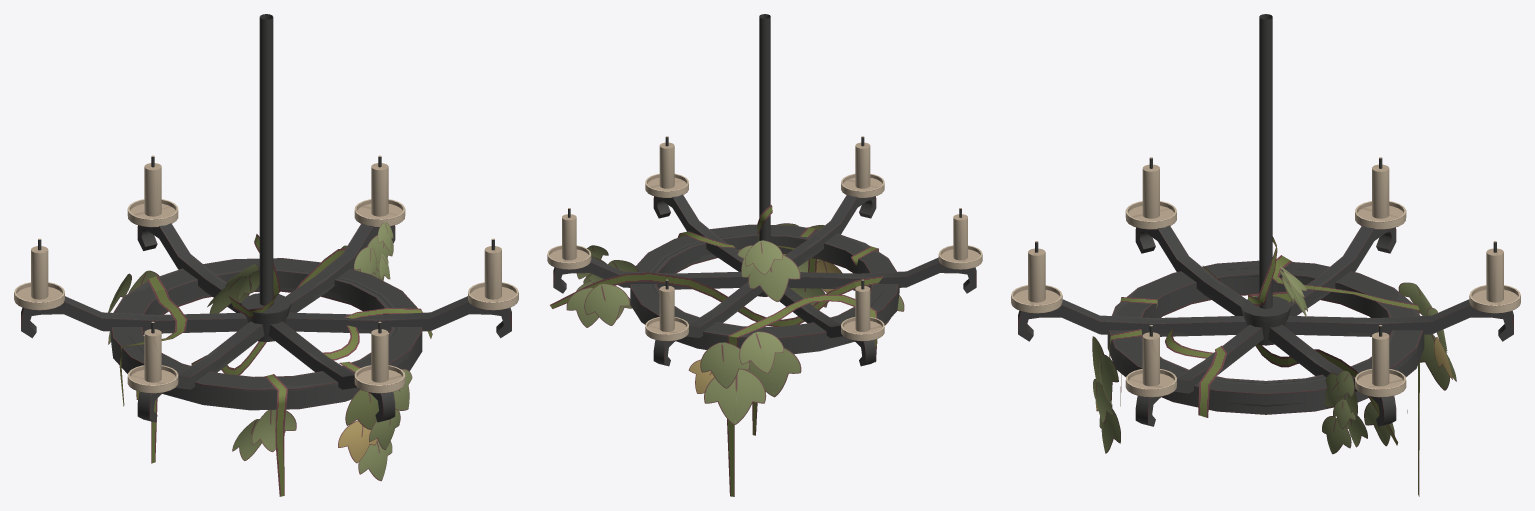
Rendered from Mesh_Room_Diaodeng_SM.fbx.
3 renders of one model, left to right at view 1: azimuth 30°, elevation 25°; view 2: azimuth 150°, elevation 25°; view 3: azimuth 270°, elevation 25°, orthographic. The views are drawn at different scales.
Parts seen in each view (by area): view 1: Mesh_Room_Diaodeng; view 2: Mesh_Room_Diaodeng; view 3: Mesh_Room_Diaodeng.
Boxes of the visible parts, x1=… form: Mesh_Room_Diaodeng: x1=14, y1=14, x2=518, y2=496; Mesh_Room_Diaodeng: x1=547, y1=14, x2=982, y2=496; Mesh_Room_Diaodeng: x1=1011, y1=14, x2=1520, y2=496.
Size of the model in its own units: 123 by 151 by 140.
3 materials, 3 textured.
